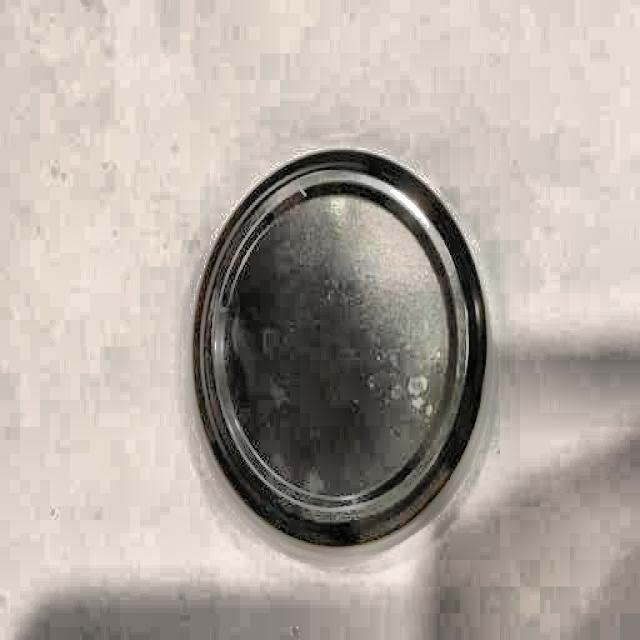metal: (189, 146, 490, 554)
